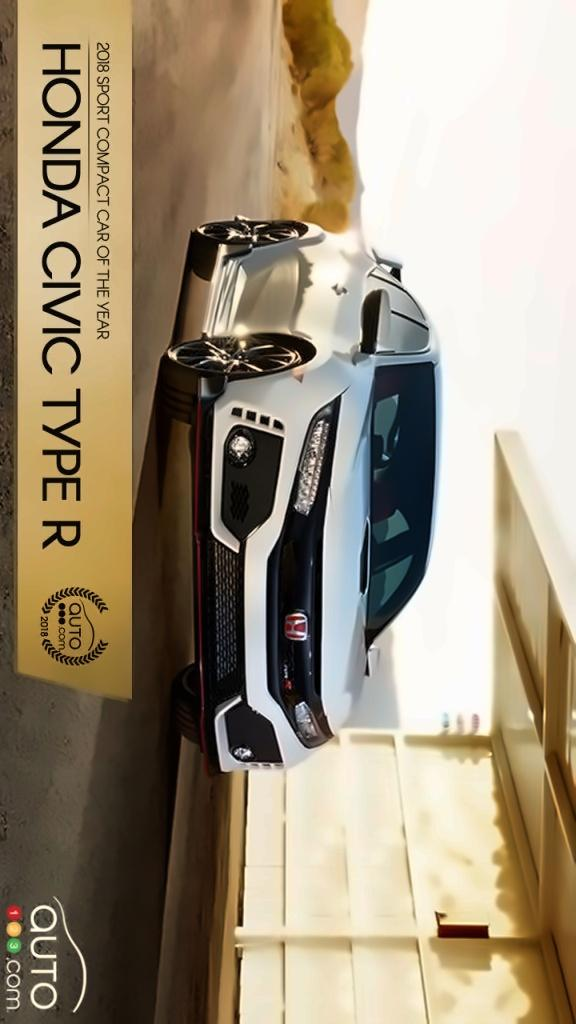Car hood: (315, 359, 379, 746)
Driver-s door - -F-R-: (206, 278, 428, 371)
Fender - -F-R-: (248, 320, 379, 416)
Front bumper: (186, 367, 308, 779)
Headlight - -L-: (290, 700, 334, 751)
Headlight - -R-: (288, 391, 347, 519)
Passenger-s door - -R-R-: (210, 246, 432, 327)
Side bumper - -R-: (199, 238, 256, 346)
Side mirror - -R-: (356, 284, 392, 363)
